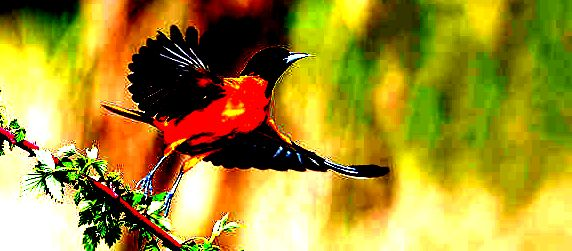Bird: (98, 22, 392, 219)
